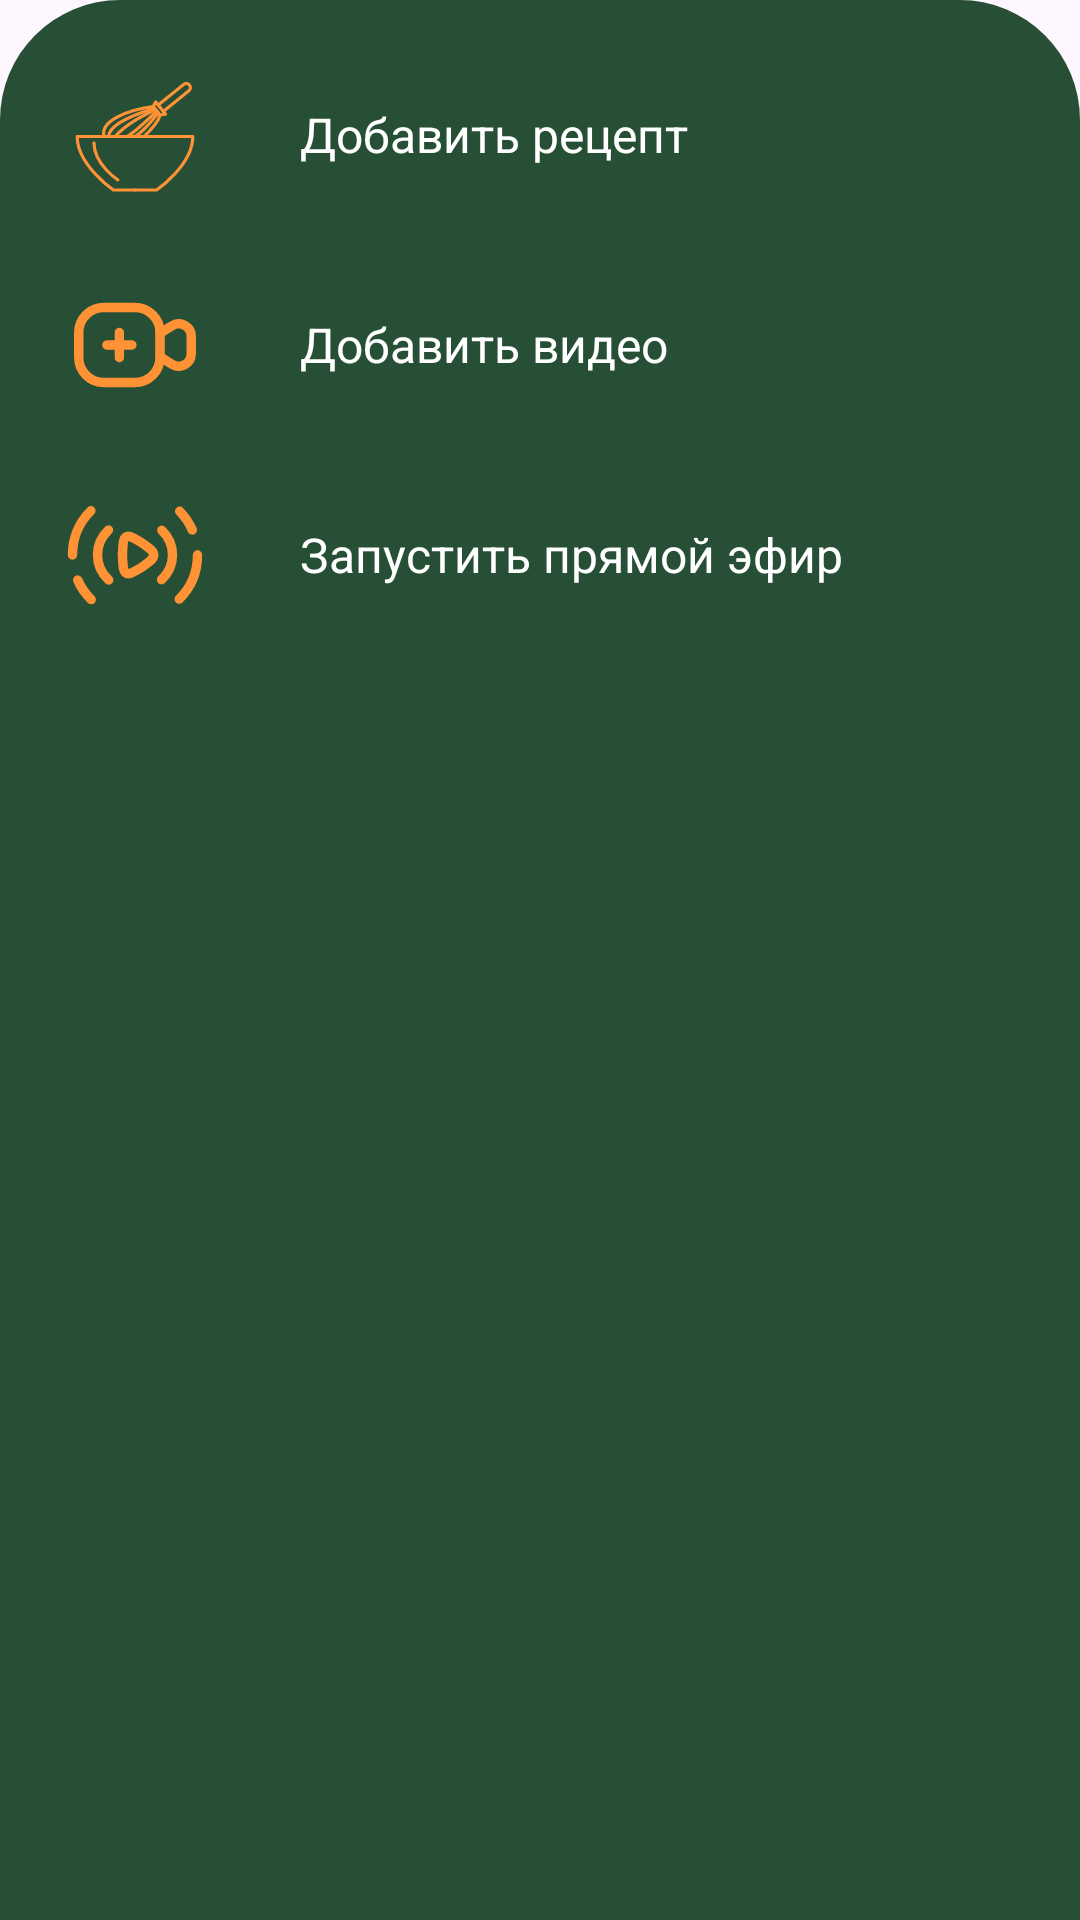

Named icons in this screenshot (1080×1920) and their centers, (x,y):
play stream: (135,555)
video plus: (135,345)
